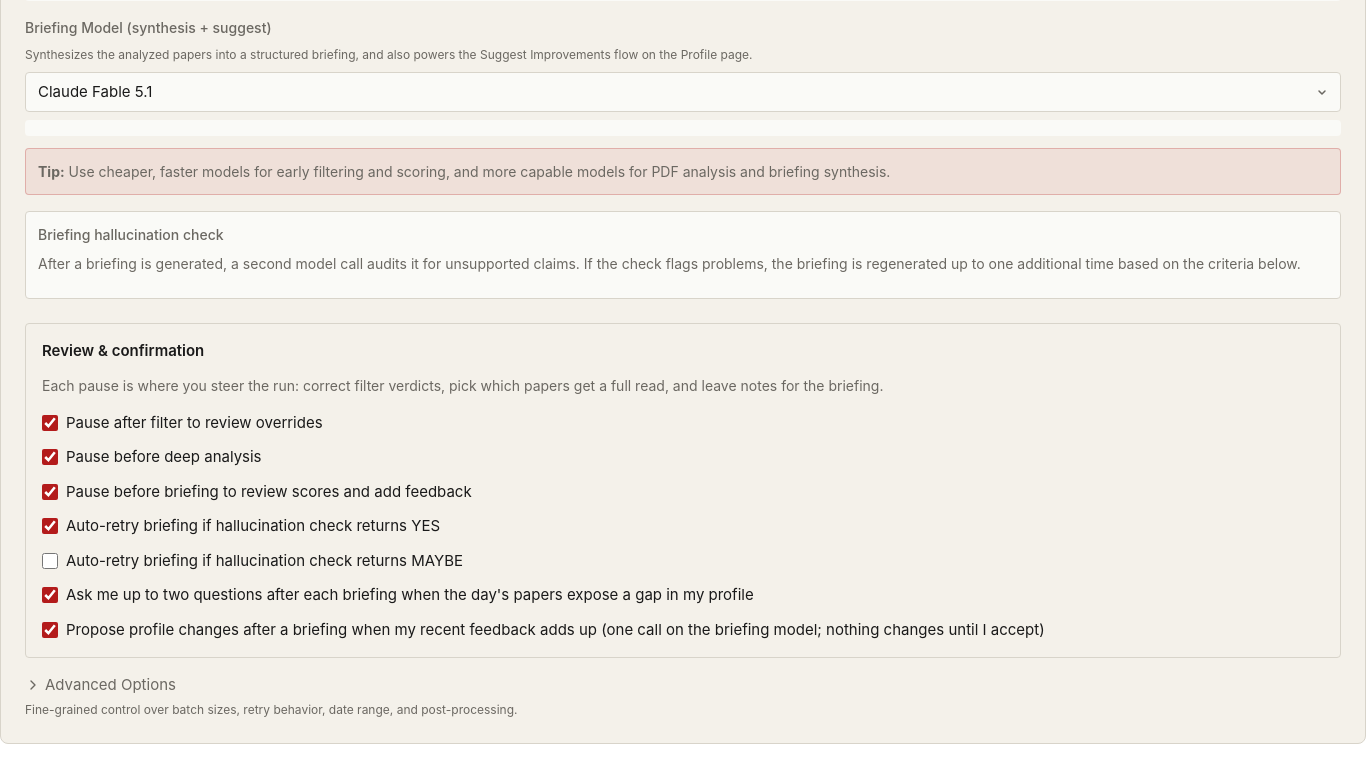
Test: SettingsPanel — Remove duplicate papers toggle › checkbox is checked when config.removeDuplicates is true
The width and height of the screenshot is (1366, 768).
(page scrolled)
Click the button "Advanced Options" at (100, 685), box left=25, top=674, right=176, bottom=696
(page scrolled)
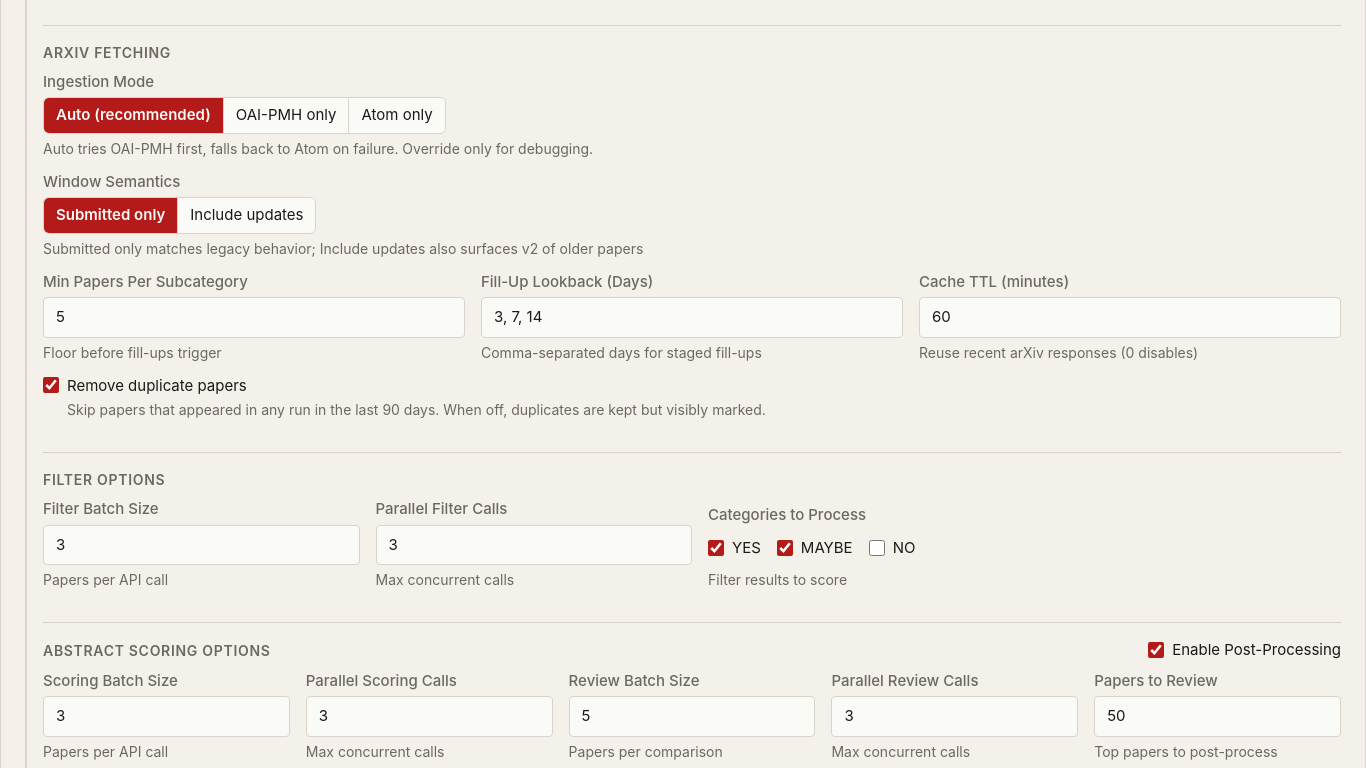
Now the text "Remove duplicate papers" is shown, box left=67, top=376, right=247, bottom=394
Now the 1st checkbox is checked, box left=43, top=376, right=59, bottom=392
